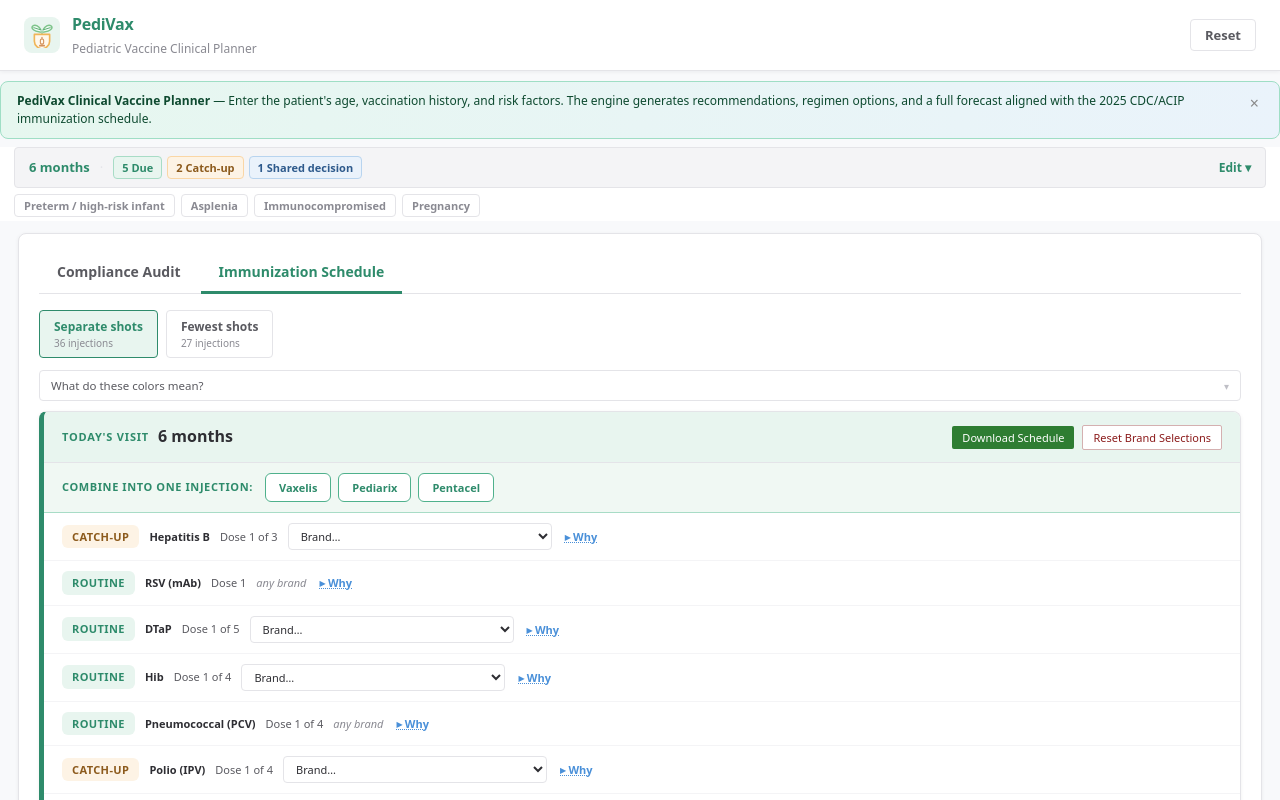
App — reset-snapshot restore banner › shows the banner within the same session immediately after clicking Reset
Expected: the text "Restore previous patient" is not shown
Step 1. Click the button "Reset" → [1223, 35], box top-left (1190, 19), bottom-right (1256, 51)
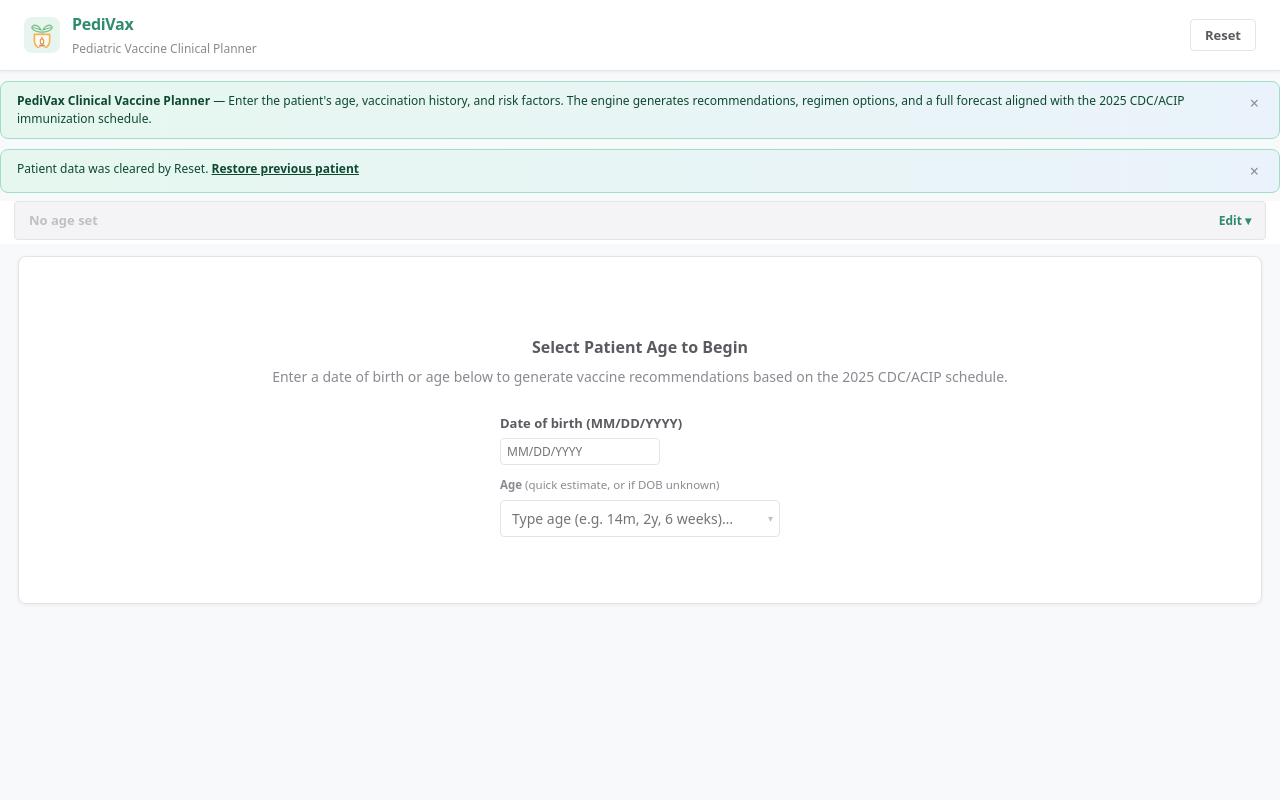
Expected: the button "Restore previous patient" is shown, top-left (212, 160), bottom-right (359, 178)
